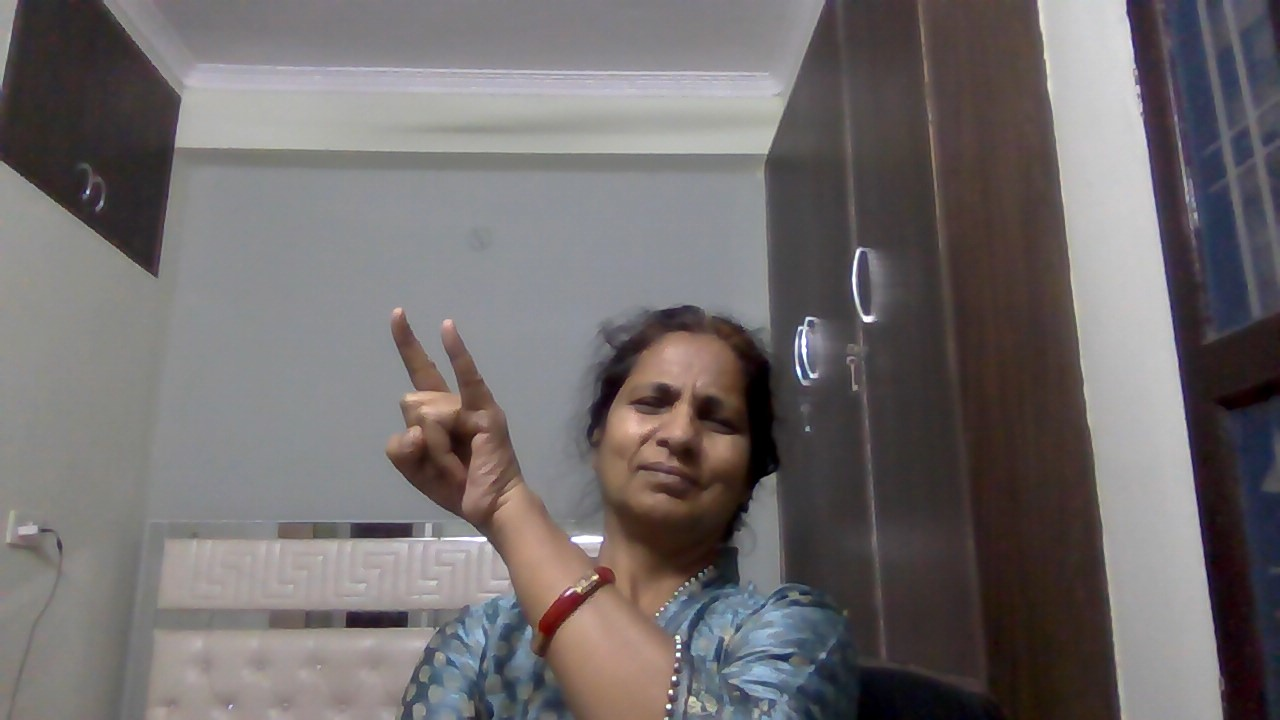Select All: (377, 302, 526, 532)
